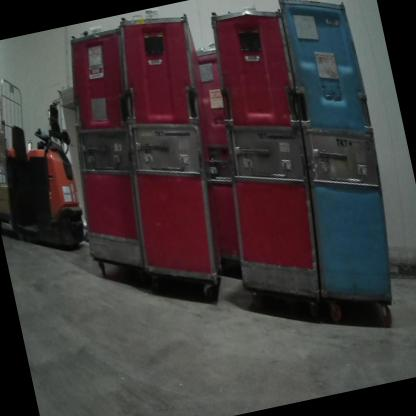pallet_truck: (0, 99, 95, 263)
